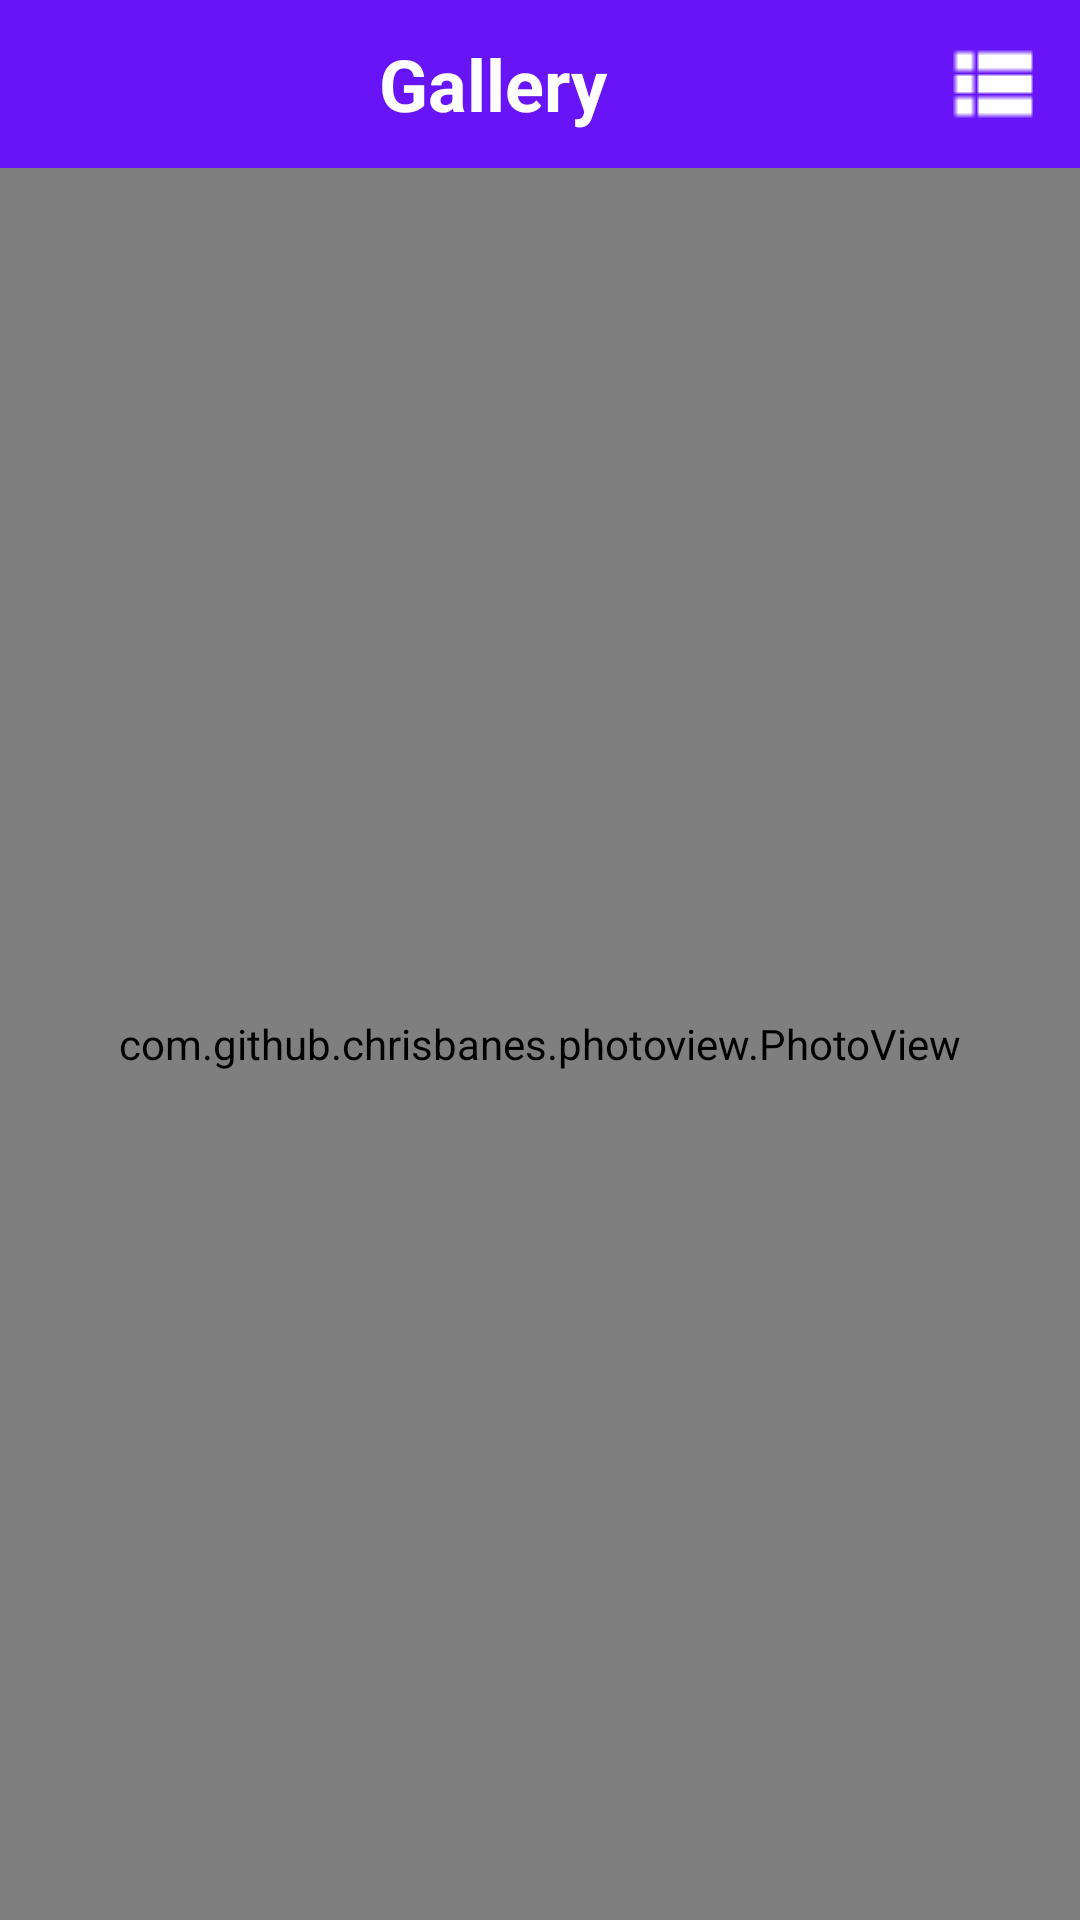

Screen size 1080px x 1920px. Icon name, then its box in pixels as (x1, y1, x2, y2):
view list: (953, 50, 1033, 118)
